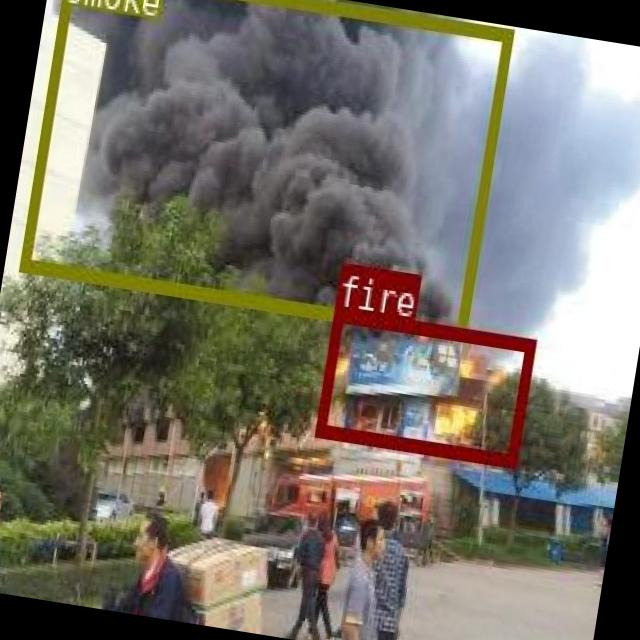fire: (313, 307, 535, 466)
smoke: (19, 0, 513, 338)
